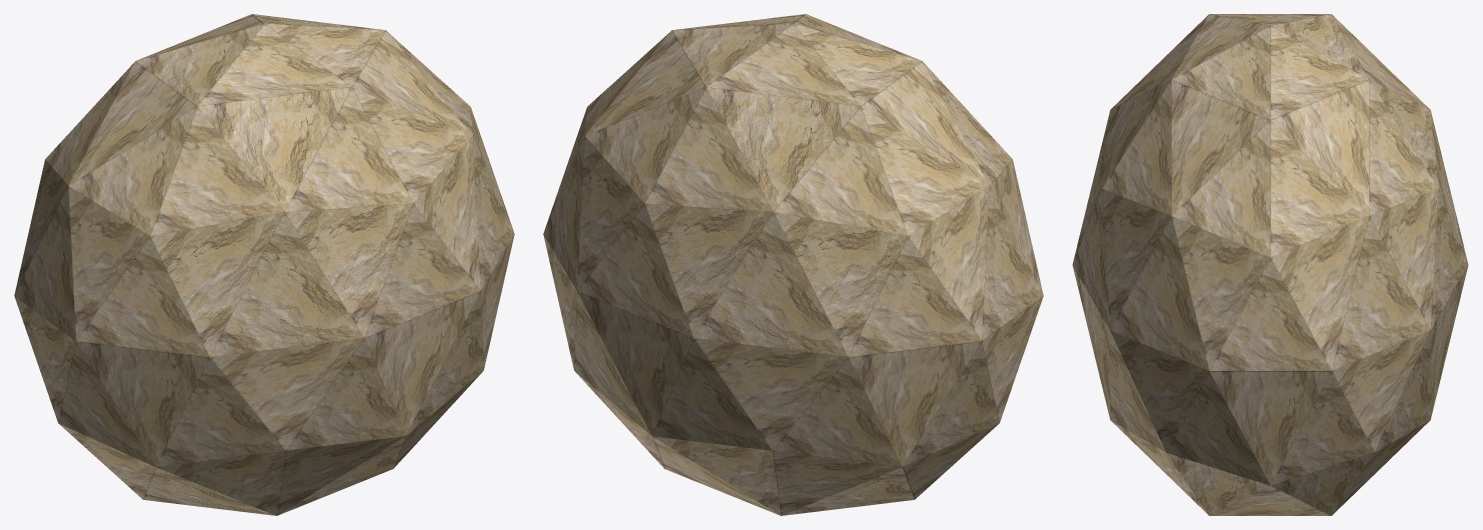
The model's file is boulder.fbx.
3 renders of one model, left to right at view 1: azimuth 30°, elevation 25°; view 2: azimuth 150°, elevation 25°; view 3: azimuth 270°, elevation 25°, orthographic.
Parts seen in each view (by area): view 1: Icosphere; view 2: Icosphere; view 3: Icosphere.
Part boxes in pixels (x1,y1,x2,y2): Icosphere: (14,14,514,515); Icosphere: (543,14,1043,515); Icosphere: (1072,14,1468,515).
Bounding box in the file's own units: 380 × 400 × 300.
1 material, 1 textured.
